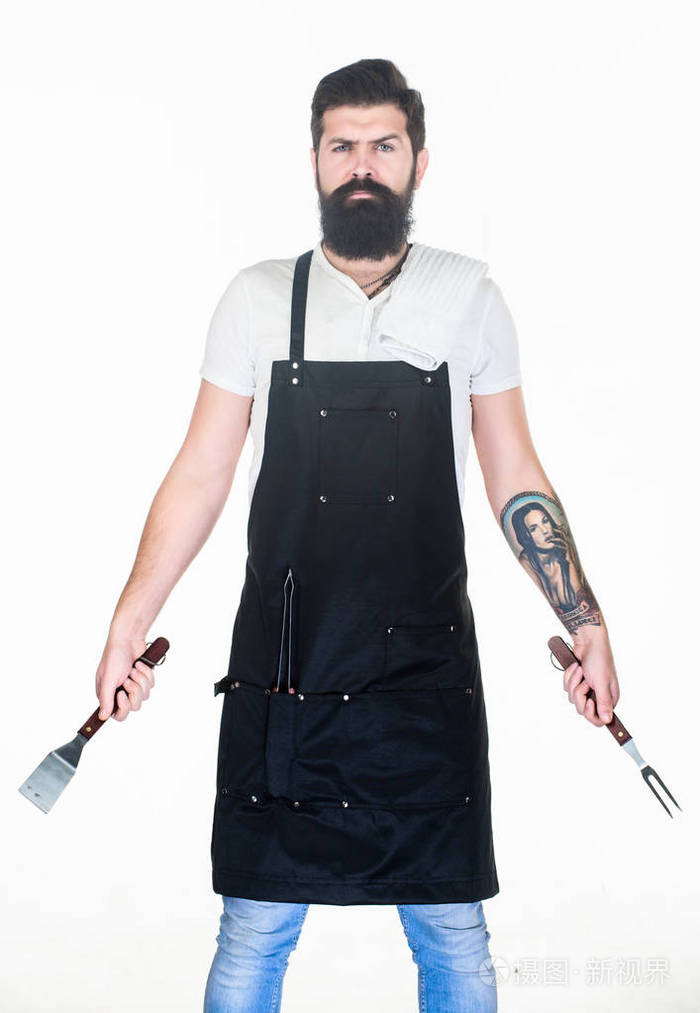no-phone: (54, 620, 177, 774), (543, 614, 639, 751)
